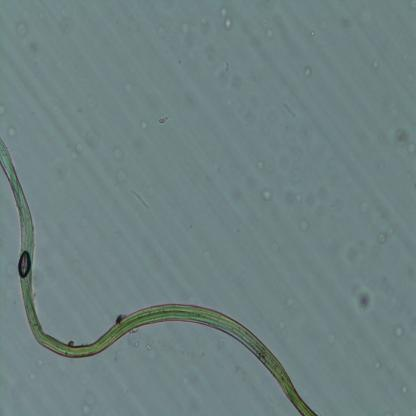Anthropogenic: (0, 134, 321, 416)
Background material: (176, 8, 210, 46), (268, 150, 298, 184), (72, 121, 99, 156), (216, 58, 242, 90), (351, 283, 376, 316), (286, 188, 324, 209), (129, 187, 151, 211), (258, 14, 276, 41), (342, 244, 363, 265), (376, 224, 396, 244), (81, 388, 95, 415), (219, 5, 233, 30), (16, 15, 29, 41), (394, 127, 410, 148), (392, 320, 407, 341), (359, 200, 372, 219), (296, 218, 310, 235), (121, 79, 135, 95), (33, 352, 45, 370), (143, 343, 157, 358), (116, 169, 131, 183), (112, 147, 125, 162), (261, 187, 274, 202), (371, 57, 382, 72), (156, 113, 171, 124), (318, 17, 329, 32), (5, 124, 18, 136), (256, 157, 267, 171), (28, 44, 42, 55), (400, 381, 410, 396), (302, 65, 311, 81), (138, 119, 148, 133), (275, 323, 287, 333), (326, 333, 336, 345), (374, 360, 383, 370), (309, 29, 315, 36)
